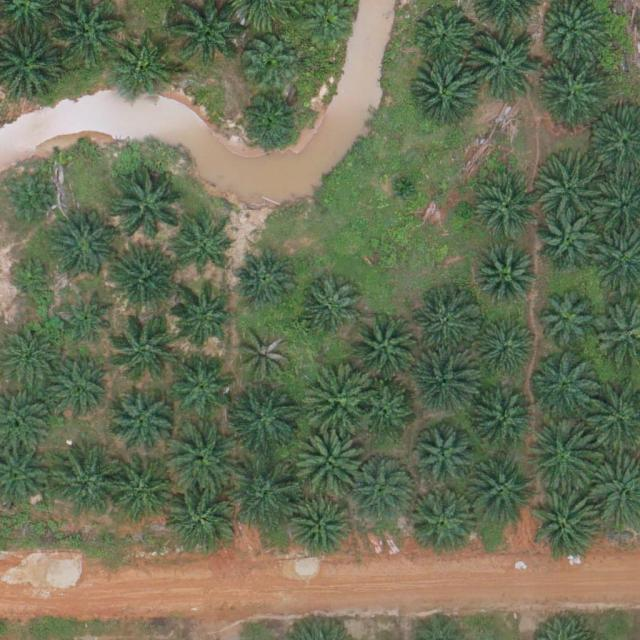Dead: (239, 330, 294, 385)
Healthy: (525, 423, 596, 494), (410, 486, 481, 557), (167, 486, 238, 557), (533, 492, 603, 563), (530, 351, 600, 422), (537, 56, 607, 127), (467, 29, 537, 100), (409, 62, 480, 132), (465, 456, 535, 527), (294, 426, 364, 497), (233, 460, 303, 531), (105, 459, 175, 530), (112, 312, 182, 383), (107, 247, 177, 318), (113, 167, 183, 238), (49, 448, 119, 519), (537, 149, 607, 219), (410, 348, 480, 418), (351, 313, 421, 383), (302, 365, 372, 435), (231, 385, 301, 455), (167, 424, 237, 494), (47, 213, 117, 283), (537, 291, 600, 354), (474, 392, 537, 455), (170, 289, 233, 352), (109, 390, 172, 453), (112, 40, 175, 103), (538, 210, 600, 273), (476, 179, 538, 242), (477, 247, 539, 310), (414, 6, 476, 69), (415, 295, 478, 357), (414, 429, 476, 492), (352, 457, 414, 520), (298, 276, 360, 339), (239, 90, 302, 152), (170, 354, 233, 416), (47, 359, 109, 422), (477, 320, 539, 382), (289, 496, 351, 558), (234, 248, 296, 310), (358, 384, 413, 439), (242, 32, 297, 87), (61, 293, 116, 348), (2, 173, 57, 228), (178, 224, 232, 279)
Small: (9, 255, 56, 302), (388, 171, 419, 203)
